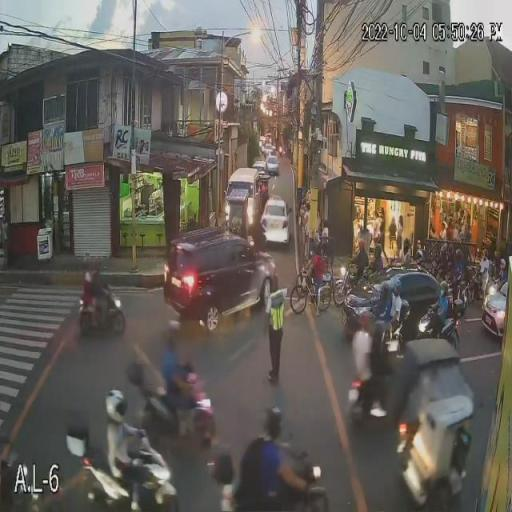helmet: (105, 389, 128, 419), (263, 406, 283, 438), (162, 318, 180, 337), (356, 311, 374, 327), (354, 238, 370, 254), (398, 236, 411, 254), (391, 280, 404, 297), (430, 280, 443, 294), (438, 245, 450, 260), (414, 249, 425, 262), (373, 245, 386, 255), (378, 283, 388, 296), (455, 249, 464, 260), (480, 251, 490, 260), (497, 257, 505, 268)
motorcycle: (67, 423, 181, 511), (126, 356, 216, 450), (234, 438, 324, 512), (346, 336, 394, 430), (78, 278, 126, 337), (417, 297, 460, 350)
rider: (234, 406, 318, 512), (104, 389, 162, 502), (158, 324, 202, 421), (350, 312, 389, 420), (80, 261, 112, 328), (428, 281, 454, 334)
